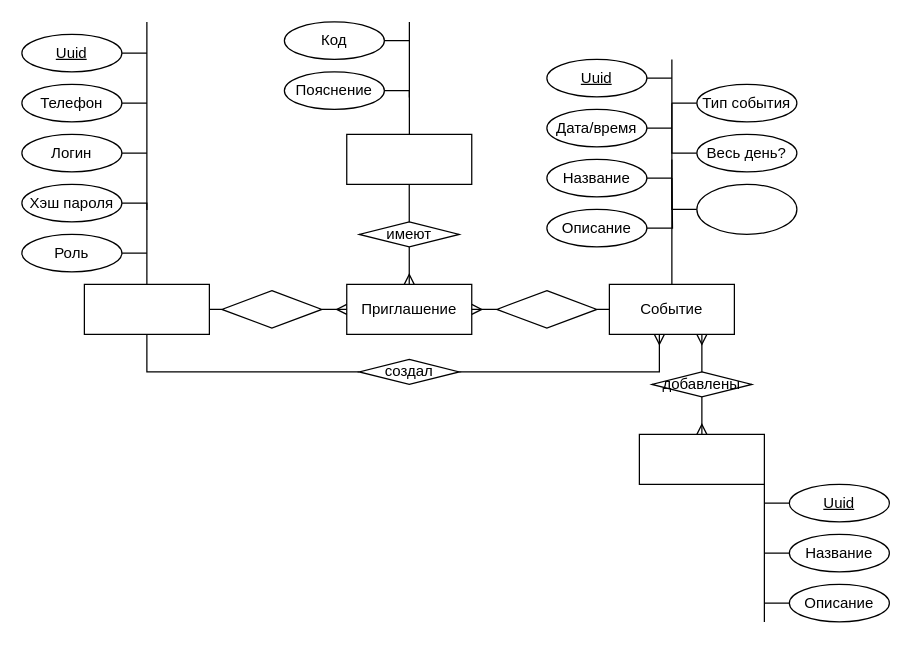
Some shapes in this 911 by 645 pixel diagram are drawn without their labels. The box of each missing label's shape, as (x1, y1, x2, y2) in pixels:
включены: (496, 289, 597, 328)
Пользователь: (83, 283, 209, 334)
Права доступа: (696, 183, 797, 234)
Право доступа события: (346, 133, 472, 184)
приглашен: (221, 289, 322, 328)
Тег события: (638, 433, 764, 484)
